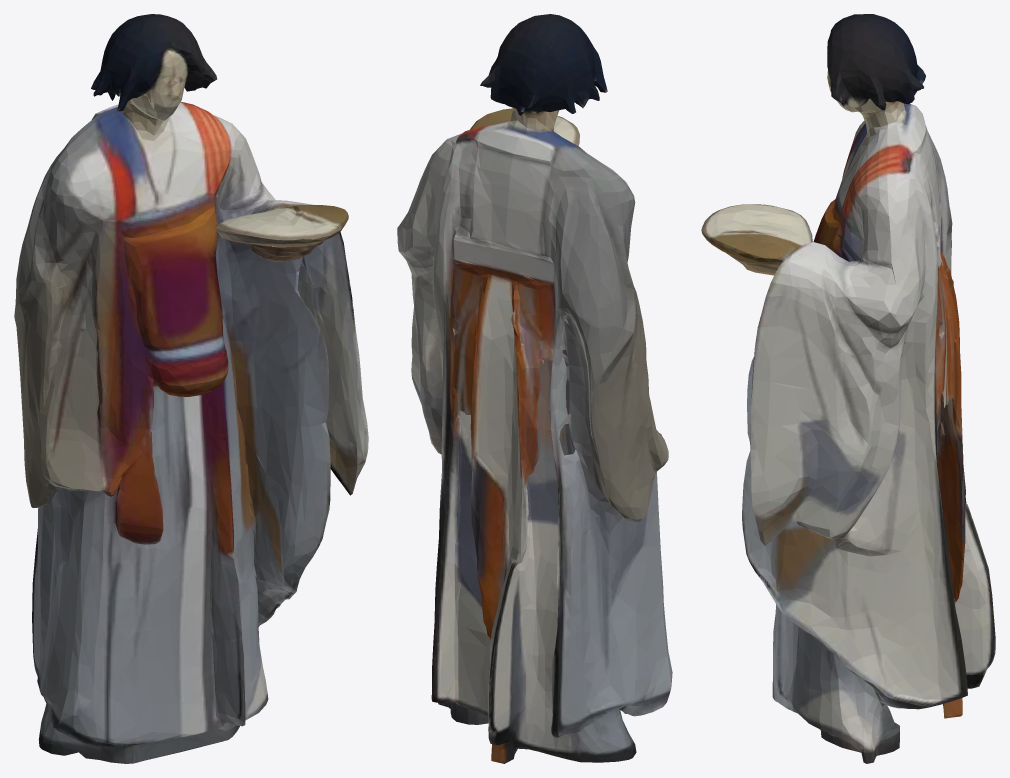
File: anime_ancient_scholar.glb
The picture shows the model from 3 angles, left to right: view 1: azimuth 30°, elevation 25°; view 2: azimuth 150°, elevation 25°; view 3: azimuth 270°, elevation 25°; orthographic projection. The views are drawn at different scales.
Parts seen in each view (by area): view 1: geometry_0; view 2: geometry_0; view 3: geometry_0.
Boxes of the visible parts, box(x1,y1,x2,y2) form: geometry_0: box(14, 14, 368, 763); geometry_0: box(397, 14, 672, 763); geometry_0: box(701, 14, 995, 763).
Bounding box in the file's own units: 0.3939 × 1 × 0.3838.
1 material, 1 textured.
